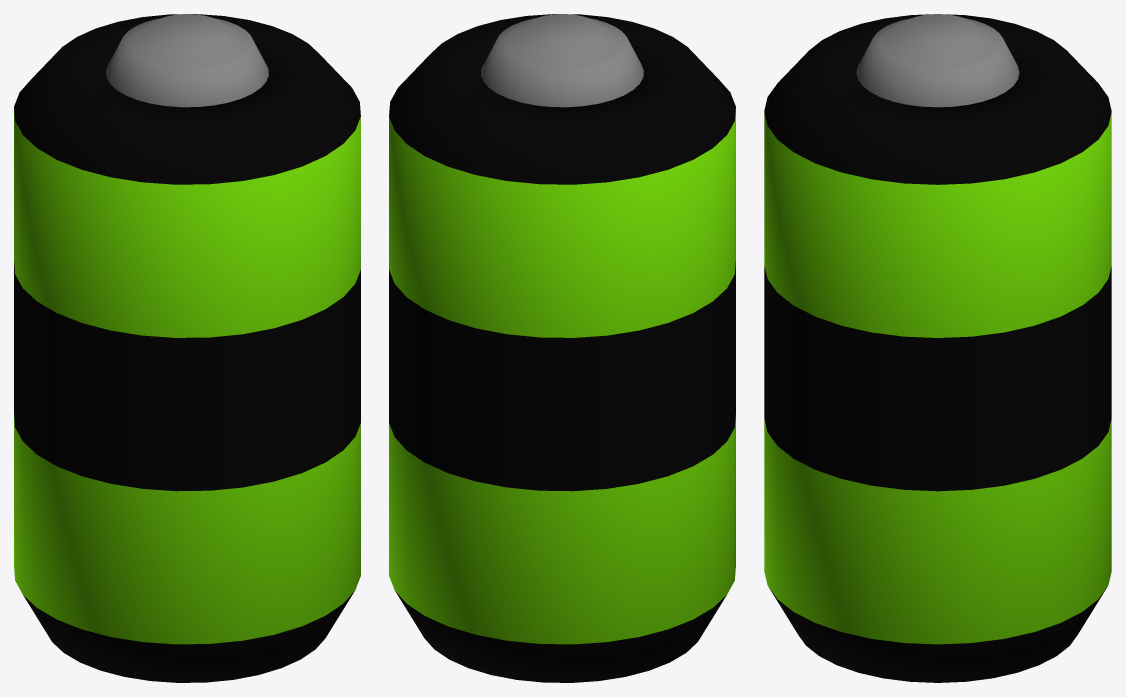
File: Baterry.fbx
3 renders of one model, left to right at view 1: azimuth 30°, elevation 25°; view 2: azimuth 150°, elevation 25°; view 3: azimuth 270°, elevation 25°, orthographic.
Visible parts, largest first — view 1: Baterry; view 2: Baterry; view 3: Baterry.
Boxes of the visible parts, <box> form: Baterry: <box>14,14,360,682</box>; Baterry: <box>389,14,735,682</box>; Baterry: <box>764,14,1111,682</box>.
Size of the model in its own units: 100 by 188 by 100.
